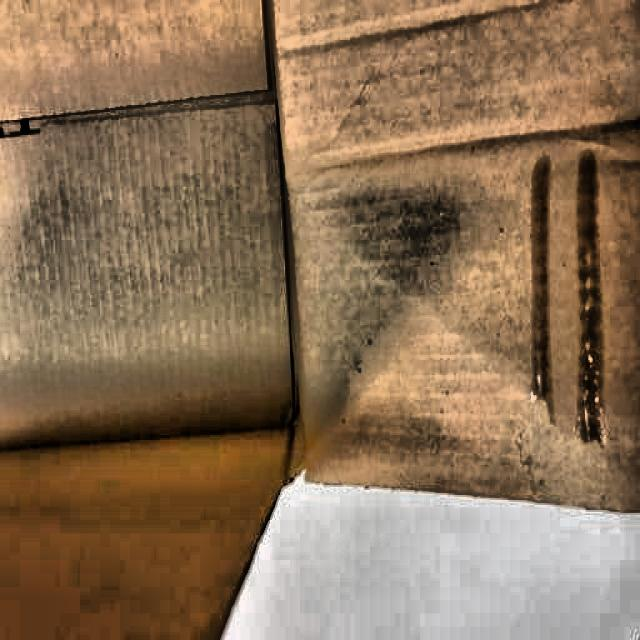cardboard: (3, 4, 617, 604)
